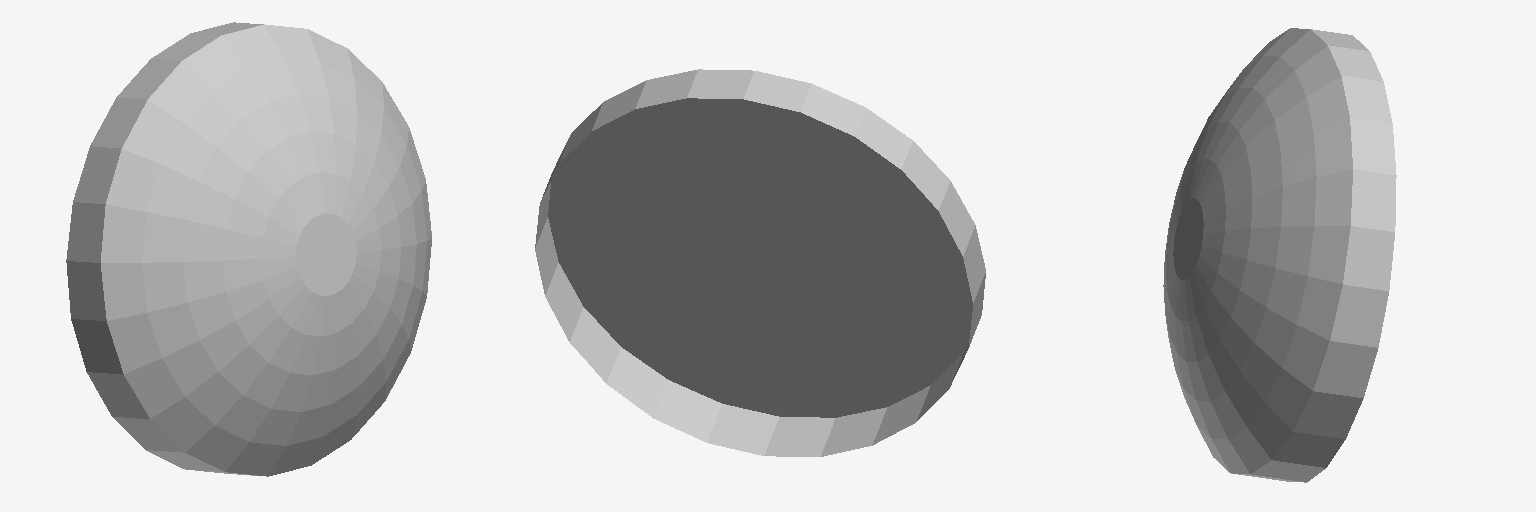
File: original-29.obj
3 renders of one model, left to right at view 1: azimuth 30°, elevation 25°; view 2: azimuth 150°, elevation 25°; view 3: azimuth 270°, elevation 25°, orthographic.
Visible parts, largest first — view 1: group_11/ID146#ID146; view 2: group_11/ID146#ID146; view 3: group_11/ID146#ID146.
Part boxes in pixels (x1,y1,x2,y2): group_11/ID146#ID146: (66, 22, 431, 476); group_11/ID146#ID146: (535, 69, 985, 456); group_11/ID146#ID146: (1163, 28, 1396, 482).
Bounding box in the file's own units: 0.0261 × 0.0263 × 0.0135.